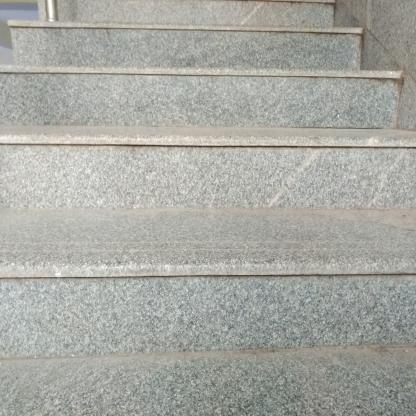stairs: (4, 73, 401, 416)
